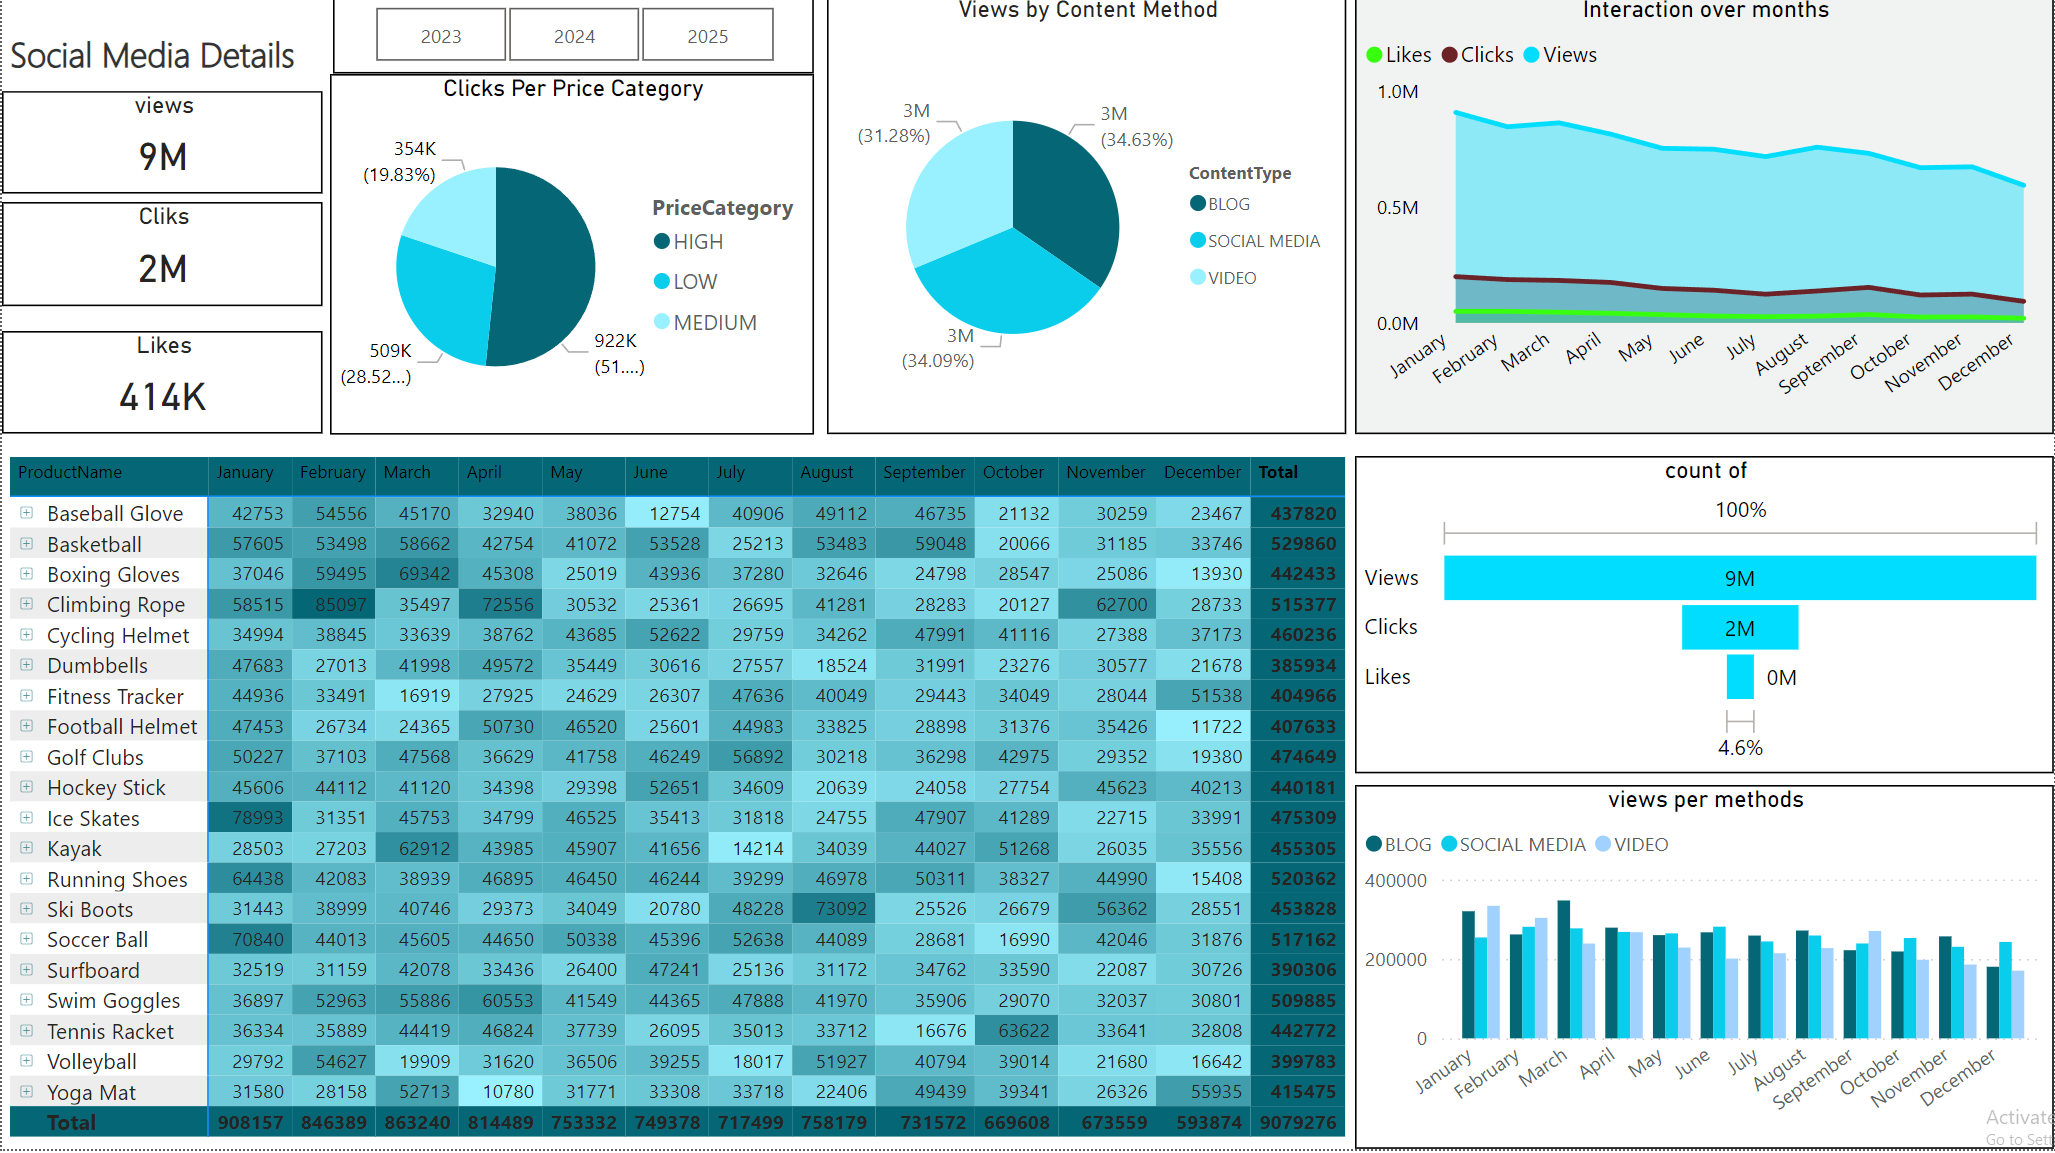

The dashboard page shown, as its layout file describes it:
{"tool":"powerbi","page":{"name":"Social Media Details","canvas":[1280,720],"ordinal":2},"visuals":[{"type":"card","title":"Likes","fields":{"Values":["_measures.Likes"]},"box":[0,209.6,200.3,64.3],"z":0},{"type":"card","title":"views","fields":{"Values":["_measures.Views"]},"box":[0,59.9,200.3,64.3],"z":1000},{"type":"card","title":"Cliks","fields":{"Values":["_measures.clicks"]},"box":[0,129.2,200.3,64.9],"z":2000},{"type":"funnel","title":"count of ","fields":{"Y":["Sum(fact_engagement_data.Views)","Sum(fact_engagement_data.Clicks)","Sum(fact_engagement_data.Likes)"]},"box":[844.2,287.6,436.1,197.8],"z":3000},{"type":"lineChart","title":"Interaction over months","fields":{"Y":["Sum(fact_engagement_data.Likes)","Sum(fact_engagement_data.Clicks)","Sum(fact_engagement_data.Views)"],"Category":["Calendar.Date.Variation.Date Hierarchy.Month"]},"box":[844.2,0,436.1,273.9],"z":4000},{"type":"clusteredColumnChart","title":"views per methods","fields":{"Category":["Calendar.Date.Variation.Date Hierarchy.Month"],"Y":["_measures.Views"],"Series":["fact_engagement_data.ContentType"]},"box":[844.2,492.8,435.8,227.1],"z":5000},{"type":"pivotTable","fields":{"Columns":["Calendar.Date.Variation.Date Hierarchy.Month"],"Rows":["Dim_Product.ProductName","fact_engagement_data.ContentType"],"Values":["_measures.Views"]},"box":[0,283.4,844.2,436.5],"z":6000},{"type":"pieChart","title":"Views by Content Method","fields":{"Category":["fact_engagement_data.ContentType"],"Y":["_measures.Views"]},"box":[514.7,0,323.8,273.9],"z":7000},{"type":"pieChart","title":"Clicks Per Price Category","fields":{"Category":["Dim_Product.PriceCategory"],"Y":["Sum(fact_engagement_data.Clicks)"]},"box":[204.6,49.3,302,224.6],"z":8000},{"type":"textbox","box":[0,0,200.3,59.9],"z":9000},{"type":"slicer","fields":{"Values":["Calendar.Date.Variation.Date Hierarchy.Year"]},"box":[206.8,0,299.7,49.1],"z":10000}]}

Visuals, with their boxes in screenshot pixels (x1, y1, x2, y2), scaled from the page's 1280x720 canvas onto the 2055x1153 screenshot:
"Likes" card: region(0, 336, 322, 439)
"views" card: region(0, 96, 322, 199)
"Cliks" card: region(0, 207, 322, 311)
"count of " funnel: region(1355, 461, 2054, 777)
"Interaction over months" lineChart: region(1355, 0, 2054, 439)
"views per methods" clusteredColumnChart: region(1355, 789, 2054, 1152)
pivotTable - Calendar.Date.Variation.Date Hierarchy.Month x Dim_Product.ProductName: region(0, 454, 1355, 1152)
"Views by Content Method" pieChart: region(826, 0, 1346, 439)
"Clicks Per Price Category" pieChart: region(328, 79, 813, 439)
textbox: region(0, 0, 322, 96)
slicer - Calendar.Date.Variation.Date Hierarchy.Year: region(332, 0, 813, 79)
